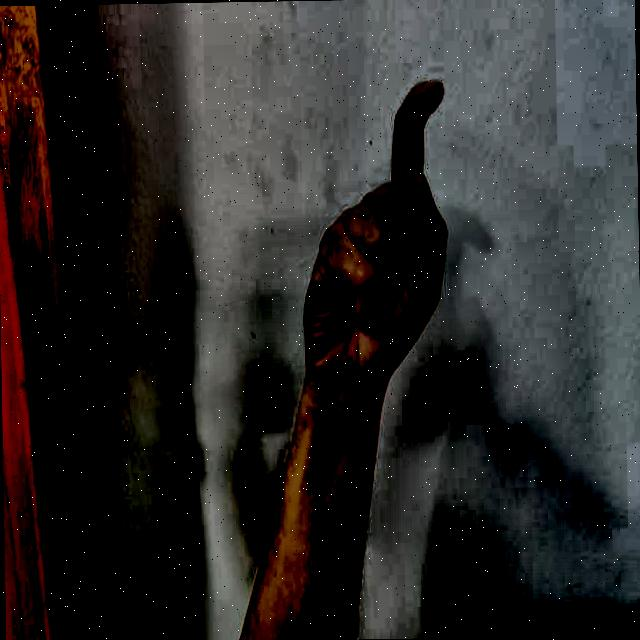E: (264, 61, 472, 412)
